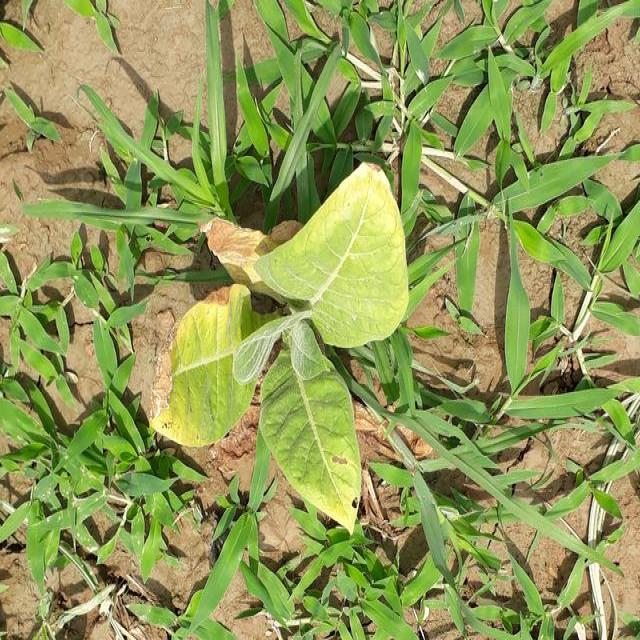crop: (156, 165, 418, 542)
